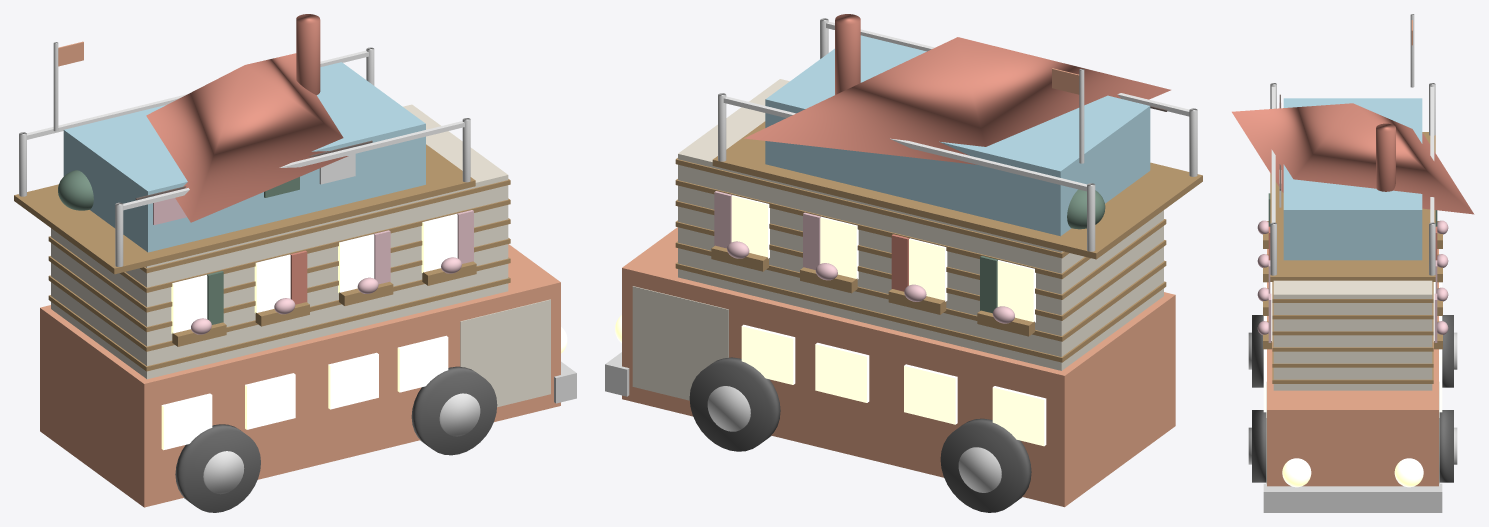
File: heaven_bus.glb
The picture shows the model from 3 angles, left to right: view 1: azimuth 30°, elevation 25°; view 2: azimuth 150°, elevation 25°; view 3: azimuth 270°, elevation 25°; orthographic projection. The views are drawn at different scales.
Visible parts, largest first — view 1: F1, F2, F3, Roof, Deck, Cab, Wheel, Wheel.002, Plank, Win1.002, Win1.004, Win1.006 (+27 smaller); view 2: F1, F2, F3, Roof, Deck, Cab, Wheel.001, Wheel.003, Plank, Win1.005, Win1.003, Win1.001 (+25 smaller); view 3: F1, F2, Roof, F3, Bumper, Deck, Chimney, Wheel.002, Wheel.003, Plank, Plank.001, Plank.002 (+12 smaller).
Boxes of the visible parts, box(x1,y1,x2,y2) form: F1: box(40, 244, 560, 507); F2: box(51, 104, 508, 379); F3: box(63, 62, 425, 252); Roof: box(146, 53, 348, 222); Deck: box(14, 144, 475, 274); Cab: box(460, 299, 550, 407); Wheel: box(175, 424, 260, 512); Wheel.002: box(411, 366, 497, 455); Plank: box(48, 277, 510, 371); Win1.002: box(245, 373, 295, 429); Win1.004: box(328, 352, 378, 409); Win1.006: box(397, 335, 448, 392); F1: box(622, 227, 1175, 507); F2: box(678, 79, 1163, 370); F3: box(765, 35, 1150, 236); Roof: box(744, 37, 1170, 164); Deck: box(712, 121, 1202, 259); Cab: box(632, 286, 728, 400); Wheel.001: box(940, 418, 1031, 512); Wheel.003: box(689, 357, 780, 451); Plank: box(675, 262, 1166, 362); Win1.005: box(815, 342, 869, 402); Win1.003: box(904, 364, 957, 424); Win1.001: box(992, 386, 1046, 446); F1: box(1267, 249, 1438, 486); F2: box(1273, 280, 1432, 390); Roof: box(1232, 103, 1474, 214); F3: box(1283, 98, 1422, 260); Bumper: box(1263, 483, 1442, 512); Deck: box(1270, 132, 1435, 281); Chimney: box(1376, 123, 1395, 191); Wheel.002: box(1252, 410, 1266, 482); Wheel.003: box(1439, 410, 1453, 482); Plank: box(1272, 367, 1433, 383); Plank.001: box(1272, 351, 1433, 367); Plank.002: box(1272, 335, 1433, 351).
Size of the model in its own units: 6.72 by 5.7 by 3.68.
